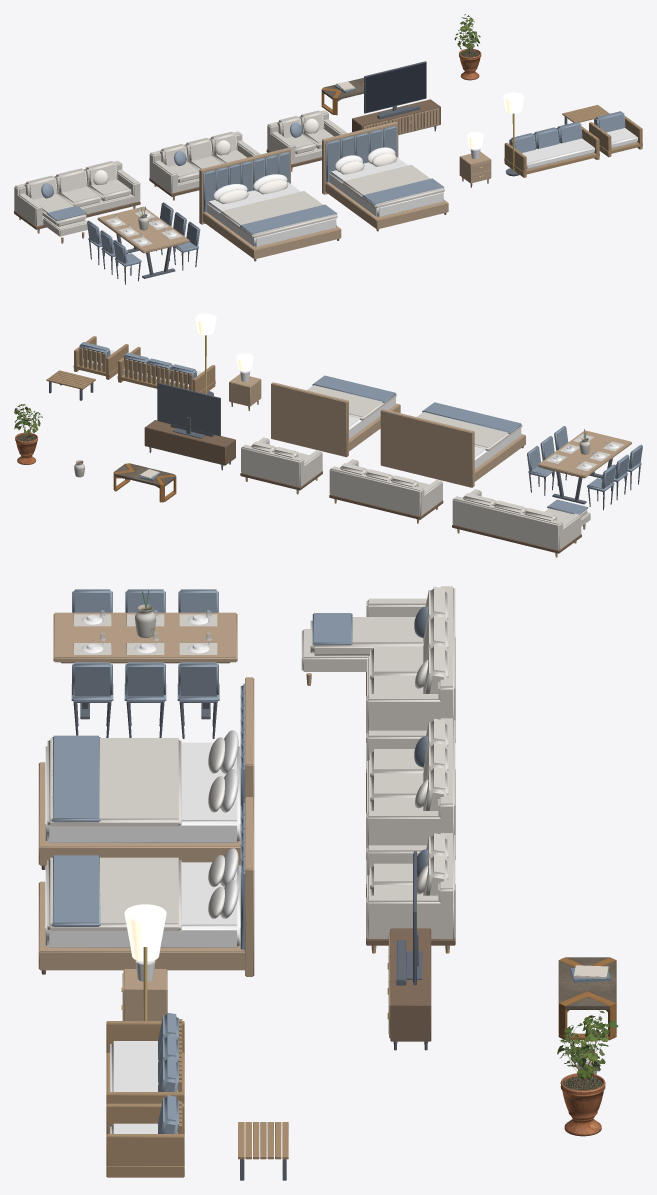
File: buyer_furniture.glb
The picture shows the model from 3 angles, top to bottom: view 1: azimuth 30°, elevation 25°; view 2: azimuth 150°, elevation 25°; view 3: azimuth 270°, elevation 25°; orthographic projection. The views are drawn at different scales.
Visible parts, largest first — view 1: MC_tvScreen, Bed_King_Suite_duvet, Bed_King_Suite_matt, Bed_Queen_Suite_duvet, Bed_King_Suite_frame, Bed_Queen_Suite_matt, DN_top, Bed_Queen_Suite_frame, Deck_Sofa_Patio_sc, Bed_King_Suite_throw, Bed_Queen_Suite_throw, MC_body (+27 smaller); view 2: Bed_King_Suite_hbBack, Bed_Queen_Suite_hbBack, Sectional_Sofa_Main_backFr, InLaw_Sofa_3Seat_backFr, MC_tvFrame, MC_body, InLaw_Loveseat_backFr, DN_top, Bed_King_Suite_throw, Coffee_Table_PolyHaven_part0, Bed_King_Suite_duvet, Bed_Queen_Suite_throw (+17 smaller); view 3: Bed_King_Suite_duvet, Bed_King_Suite_matt, DN_top, Bed_Queen_Suite_duvet, Bed_Queen_Suite_matt, Bed_Queen_Suite_frame, Bed_King_Suite_throw, MC_body, Bed_King_Suite_frame, Bed_Queen_Suite_throw, InLaw_Loveseat_armR, Coffee_Table_PolyHaven_part0 (+34 smaller).
Boxes of the visible parts, x1,y1,x2,y2 form: MC_tvScreen: [365, 62, 425, 112]; Bed_King_Suite_duvet: [220, 191, 337, 238]; Bed_King_Suite_matt: [207, 182, 336, 246]; Bed_Queen_Suite_duvet: [343, 164, 444, 208]; Bed_King_Suite_frame: [202, 212, 341, 259]; Bed_Queen_Suite_matt: [329, 157, 443, 217]; DN_top: [97, 206, 189, 253]; Bed_Queen_Suite_frame: [325, 182, 448, 229]; Deck_Sofa_Patio_sc: [522, 138, 594, 169]; Bed_King_Suite_throw: [240, 204, 337, 235]; Bed_Queen_Suite_throw: [362, 178, 444, 205]; MC_body: [352, 99, 440, 134]; Bed_King_Suite_hbBack: [380, 409, 474, 487]; Bed_Queen_Suite_hbBack: [271, 382, 348, 457]; Sectional_Sofa_Main_backFr: [452, 496, 562, 549]; InLaw_Sofa_3Seat_backFr: [329, 466, 424, 516]; MC_tvFrame: [157, 382, 220, 436]; MC_body: [144, 420, 235, 465]; InLaw_Loveseat_backFr: [241, 444, 304, 486]; DN_top: [538, 430, 631, 478]; Bed_King_Suite_throw: [422, 402, 521, 433]; Coffee_Table_PolyHaven_part0: [113, 463, 176, 502]; Bed_King_Suite_duvet: [416, 412, 522, 450]; Bed_Queen_Suite_throw: [312, 375, 396, 402]; Bed_King_Suite_duvet: [47, 738, 181, 826]; Bed_King_Suite_matt: [45, 742, 240, 842]; DN_top: [53, 612, 237, 662]; Bed_Queen_Suite_duvet: [47, 857, 181, 930]; Bed_Queen_Suite_matt: [45, 862, 240, 947]; Bed_Queen_Suite_frame: [38, 881, 244, 970]; Bed_King_Suite_throw: [52, 735, 100, 822]; MC_body: [390, 928, 431, 1041]; Bed_King_Suite_frame: [38, 762, 240, 865]; Bed_Queen_Suite_throw: [52, 855, 100, 926]; InLaw_Loveseat_armR: [366, 895, 455, 938]; Coffee_Table_PolyHaven_part0: [558, 957, 616, 1040].
Bounding box in the file's own units: 42.5 × 5.71 × 19.66.
Materials: 20 (4 with a texture image).
